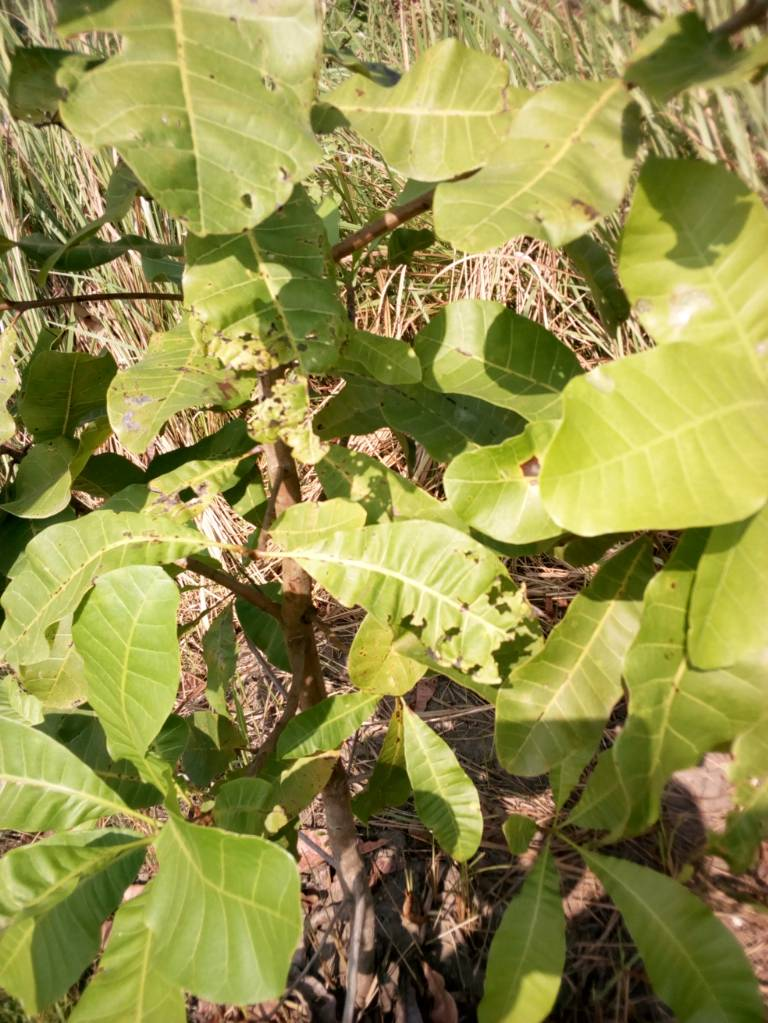Helopeltis anacardii: (296, 525, 533, 674), (1, 827, 144, 1010)
